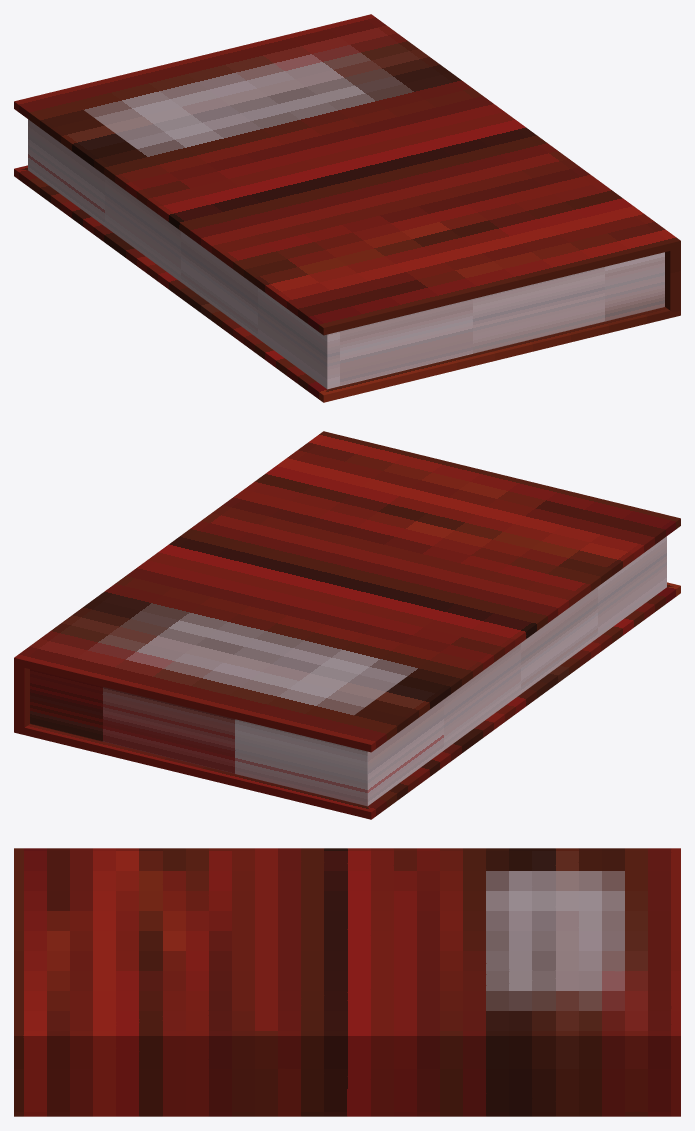
The model's file is RedBook.fbx.
The picture shows the model from 3 angles, top to bottom: view 1: azimuth 30°, elevation 25°; view 2: azimuth 150°, elevation 25°; view 3: azimuth 270°, elevation 25°; orthographic projection. The views are drawn at different scales.
Parts seen in each view (by area): view 1: FinishedBook2; view 2: FinishedBook2; view 3: FinishedBook2.
Boxes of the visible parts, left/top/right/bottom form: FinishedBook2: left=14, top=14, right=680, bottom=402; FinishedBook2: left=14, top=431, right=680, bottom=819; FinishedBook2: left=14, top=848, right=680, bottom=1116.
Size of the model in its own units: 200 by 40 by 300.
